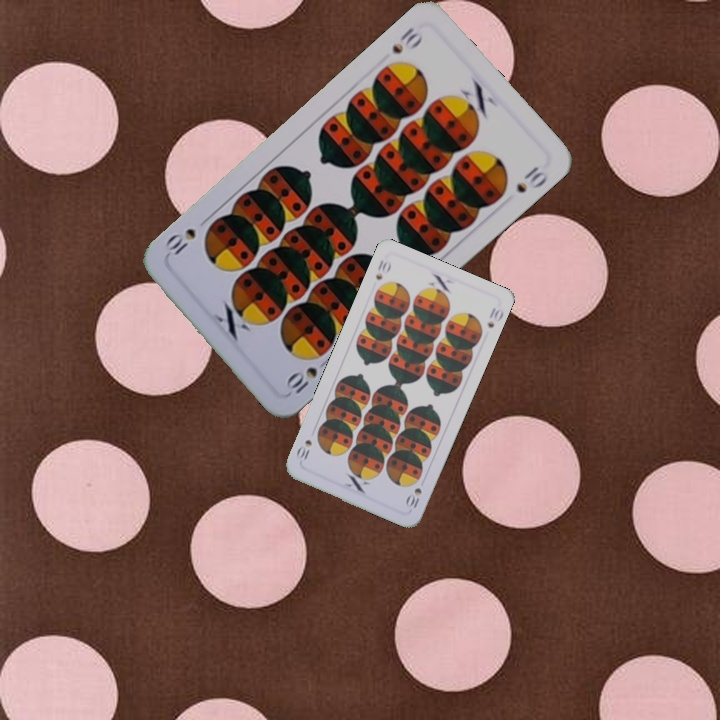S10: (281, 363, 320, 398), (388, 23, 426, 57), (371, 256, 394, 283), (402, 484, 424, 511)
